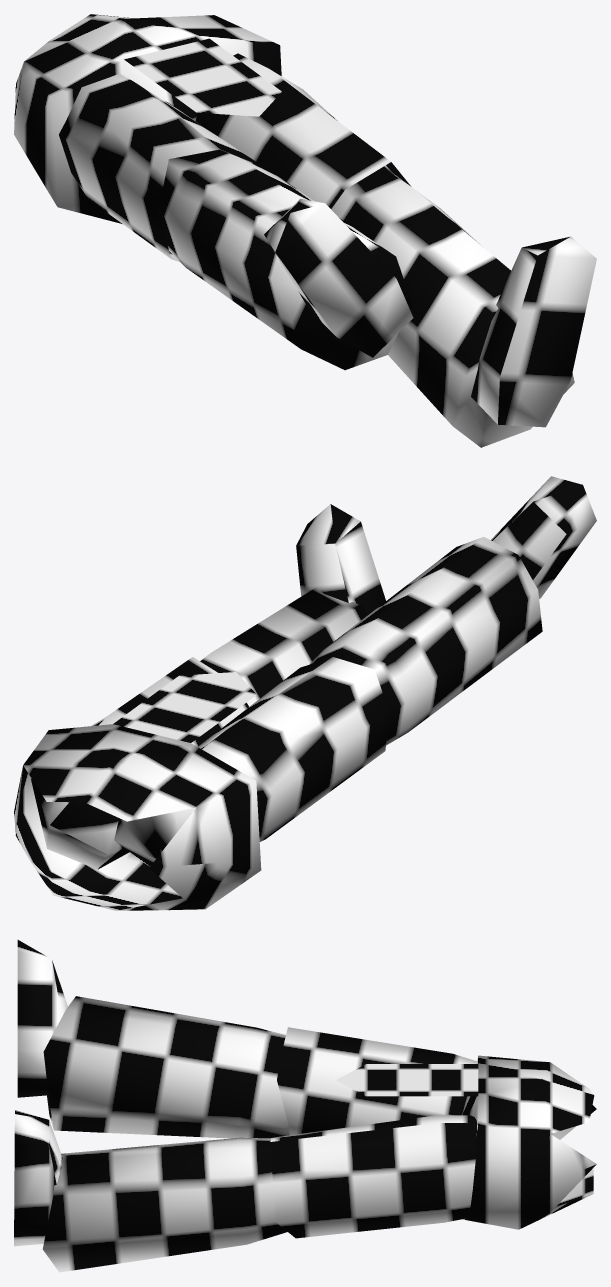
Rendered from initarlg8.dae.
3 renders of one model, top to bottom at view 1: azimuth 30°, elevation 25°; view 2: azimuth 150°, elevation 25°; view 3: azimuth 270°, elevation 25°, orthographic. The views are drawn at different scales.
Parts seen in each view (by area): view 1: armor; view 2: armor; view 3: armor.
Part boxes in pixels (bbox=[...]): armor: bbox=[14, 14, 596, 447]; armor: bbox=[14, 476, 596, 910]; armor: bbox=[14, 940, 596, 1272].
Bounding box in the file's own units: 0.8043 × 1.65 × 0.7552.
1 material, 1 textured.
